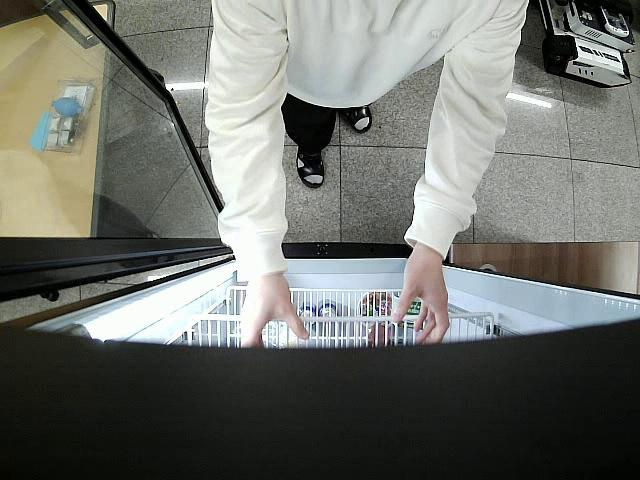00_hand: (391, 254, 446, 346), (236, 284, 308, 351)
